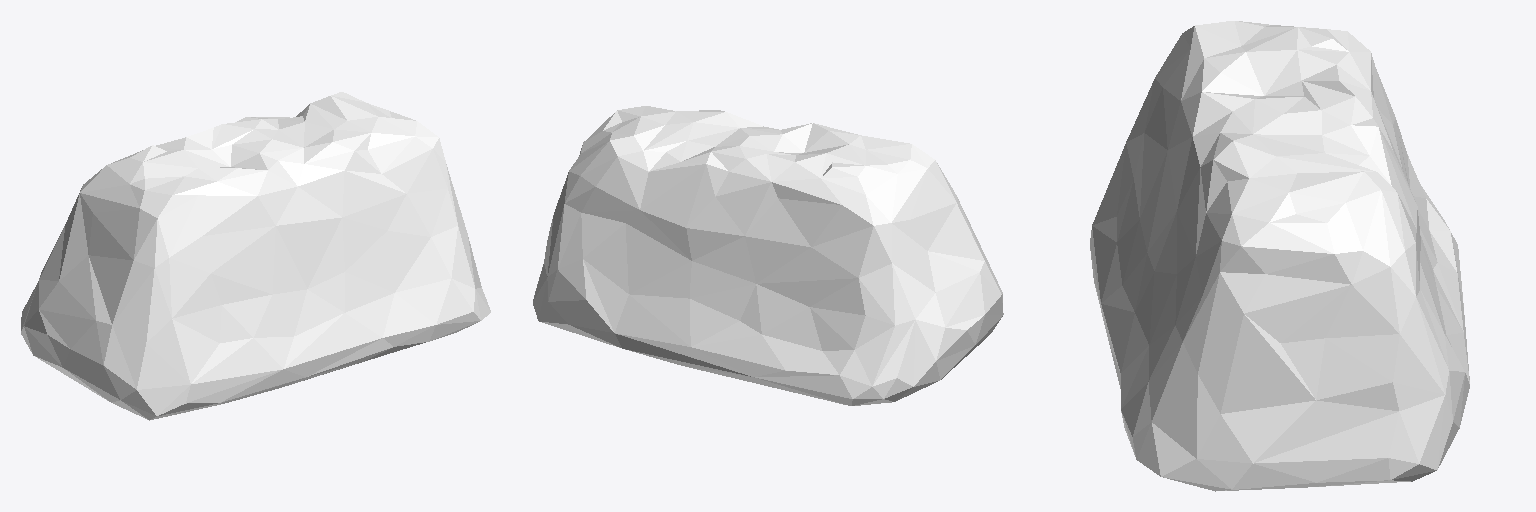
The robot description file, URDF, robot "objects/object_3.obj":
<robot name="objects/object_3.obj">
	<link name="_name">
		<visual>
			<origin xyz="0.11762705376436451 0.041311371394534106 0.8712523883636242" rpy="0.0 0.0 0.0" />
			<geometry>
				<mesh filename="objects/object_3.obj" scale="1 1 1" />
			</geometry>
			<material name="texture">
				<color rgba="1.0 1.0 1.0 1.0" />
			</material>
		</visual>
		<collision>
			<origin xyz="0.11762705376436451 0.041311371394534106 0.8712523883636242" rpy="0.0 0.0 0.0" />
			<geometry>
				<mesh filename="objects/object_3_vhacd.obj" scale="1 1 1" />
			</geometry>
		</collision>
		<inertial>
			<mass value="1.0" />
			<inertia ixx="1.0" ixy="0.0" ixz="0.0" iyy="1.0" iyz="0.0" izz="1.0" />
		</inertial>
	</link>
</robot>

--- Facts derived from the render (not from the file) ---
Views: 3 orthographic renders of the robot side by side, from view 1: azimuth 30°, elevation 25°; view 2: azimuth 150°, elevation 25°; view 3: azimuth 270°, elevation 25°.
Model objects/object_3.obj with 1 links and 0 joints (none), rooted at _name, posed every joint at zero.
Visible links, largest first — view 1: _name; view 2: _name; view 3: _name.
Boxes of the visible links, box(x1,y1,x2,y2) form: _name: box(21, 92, 490, 420); _name: box(533, 106, 1003, 405); _name: box(1090, 21, 1469, 491).
Bounding box of the posed robot: 0.0688 × 0.0408 × 0.0318 m (x, y, z).
1 mesh visuals loaded from 1 distinct referenced files (1 OBJ).